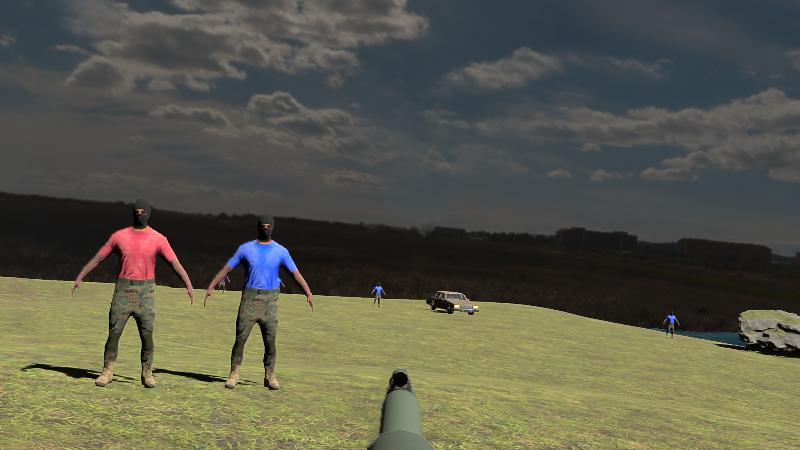Human: (72, 200, 194, 387), (204, 216, 313, 390)
car: (426, 290, 480, 316)
